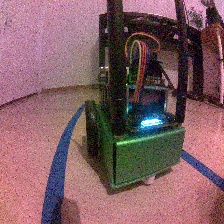rob: (82, 47, 186, 191)
